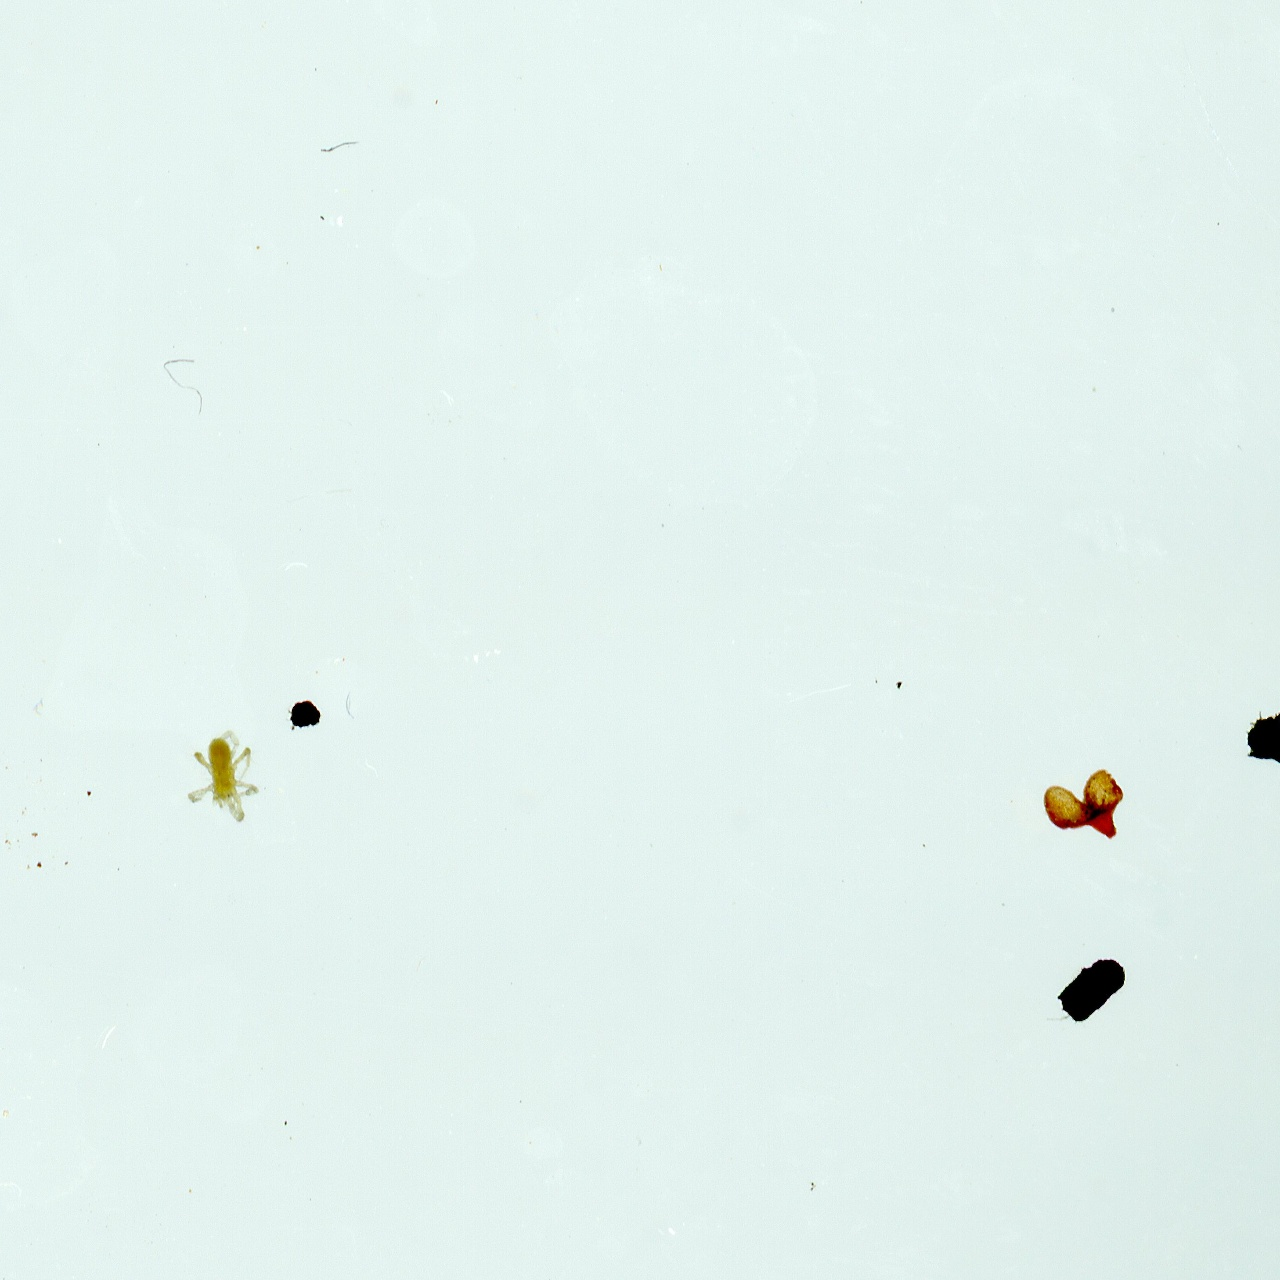arthropod: (185, 728, 263, 826)
